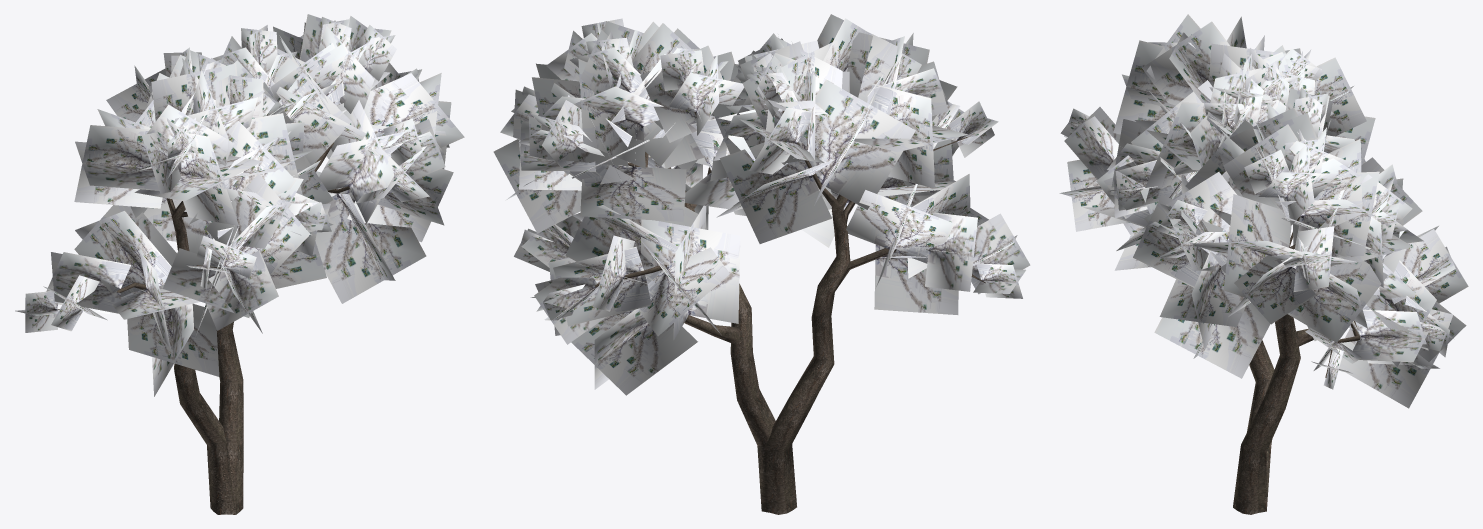
The model's file is TreeWaxCherry-white2-mobile.fbx.
The picture shows the model from 3 angles, left to right: view 1: azimuth 30°, elevation 25°; view 2: azimuth 150°, elevation 25°; view 3: azimuth 270°, elevation 25°; orthographic projection. The views are drawn at different scales.
Visible parts, largest first — view 1: TreeWaxCherry-white2-mobile_LOD0; view 2: TreeWaxCherry-white2-mobile_LOD0; view 3: TreeWaxCherry-white2-mobile_LOD0.
Boxes of the visible parts, <box> form: TreeWaxCherry-white2-mobile_LOD0: <box>15,14,464,514</box>; TreeWaxCherry-white2-mobile_LOD0: <box>493,14,1030,514</box>; TreeWaxCherry-white2-mobile_LOD0: <box>1059,14,1468,514</box>.
Size of what is drawn, in the model's own units: 632 by 621 by 496.
